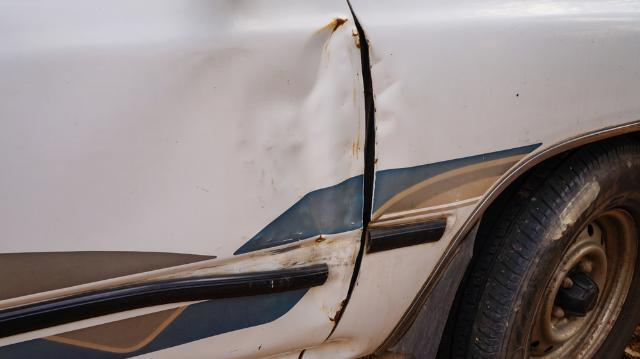dent: (188, 27, 360, 288), (369, 49, 405, 150)
